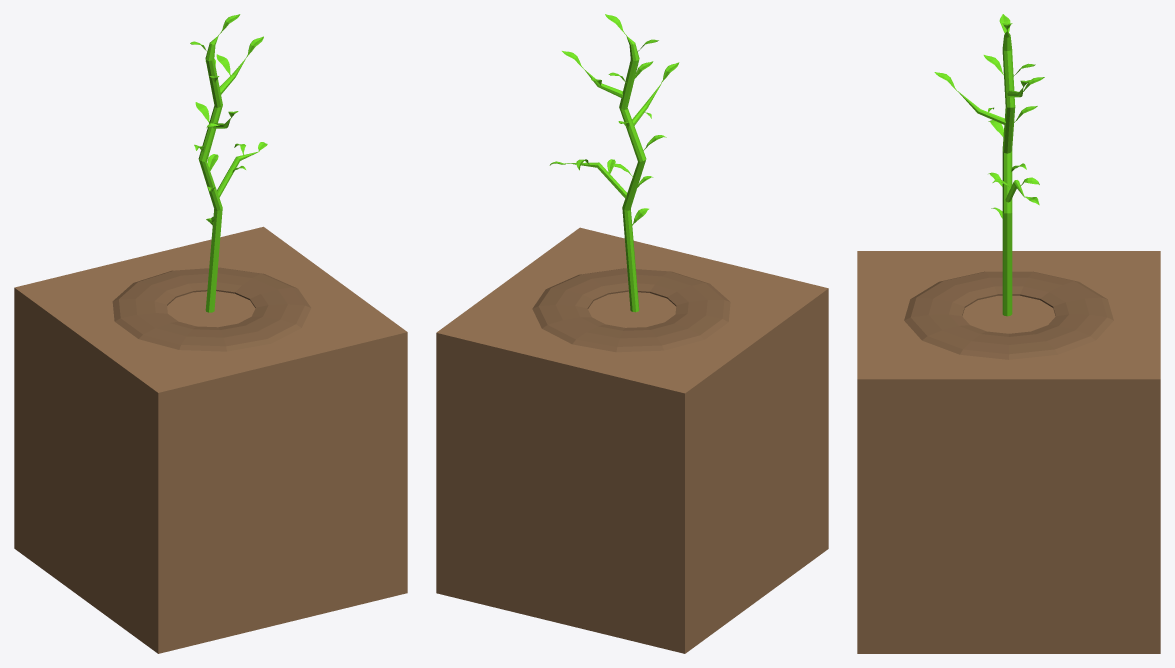
The model's file is DirtBox_Tomato_Phase_2.fbx.
3 views of the same model, side by side, from view 1: azimuth 30°, elevation 25°; view 2: azimuth 150°, elevation 25°; view 3: azimuth 270°, elevation 25° (orthographic). The views are drawn at different scales.
Parts seen in each view (by area): view 1: Cube, Torus, Plant; view 2: Cube, Torus, Plant; view 3: Cube, Torus, Plant.
Part boxes in pixels (x1,y1,x2,y2): Cube: (14, 226, 407, 653); Torus: (112, 267, 311, 351); Plant: (190, 14, 267, 312); Cube: (436, 227, 828, 653); Torus: (532, 268, 730, 352); Plant: (549, 14, 679, 312); Cube: (857, 251, 1160, 653); Torus: (904, 271, 1113, 359); Plant: (934, 14, 1044, 316).
Size of the model in its own units: 100 by 211 by 100.
